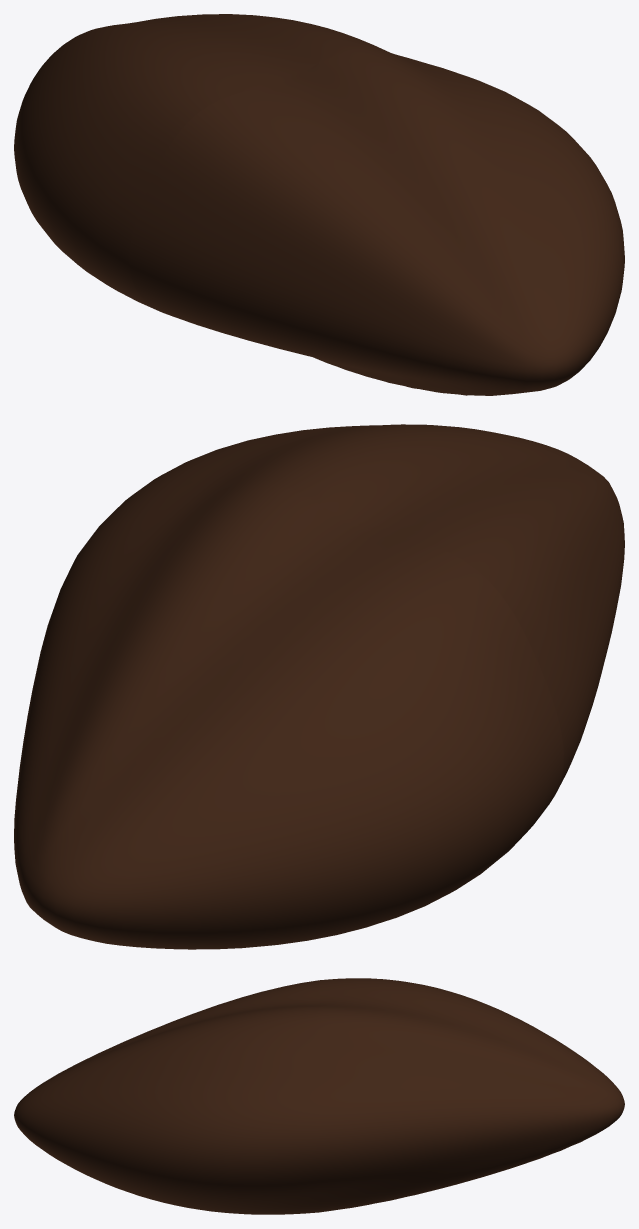
The model's file is cacao-bean.glb.
3 renders of one model, top to bottom at view 1: azimuth 30°, elevation 25°; view 2: azimuth 150°, elevation 25°; view 3: azimuth 270°, elevation 25°, orthographic. The views are drawn at different scales.
Parts seen in each view (by area): view 1: CacaoBeanHero; view 2: CacaoBeanHero; view 3: CacaoBeanHero.
Part boxes in pixels (left/top/right/bottom): CacaoBeanHero: left=14, top=14, right=624, bottom=395; CacaoBeanHero: left=14, top=424, right=624, bottom=949; CacaoBeanHero: left=14, top=978, right=624, bottom=1214.
Size of the model in its own units: 2.16 by 1.36 by 4.
